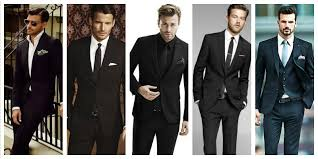F_M_suit jacket: (65, 35, 125, 133), (127, 35, 190, 124), (192, 31, 252, 112), (10, 34, 63, 123), (255, 35, 314, 112)
F_belt: (271, 94, 306, 105)
F_dress pants: (63, 107, 123, 154), (130, 108, 182, 156), (200, 102, 243, 153), (261, 108, 305, 156), (9, 106, 52, 154)
F_tie: (217, 34, 241, 100), (155, 41, 174, 110), (88, 42, 103, 117), (278, 40, 291, 94)
